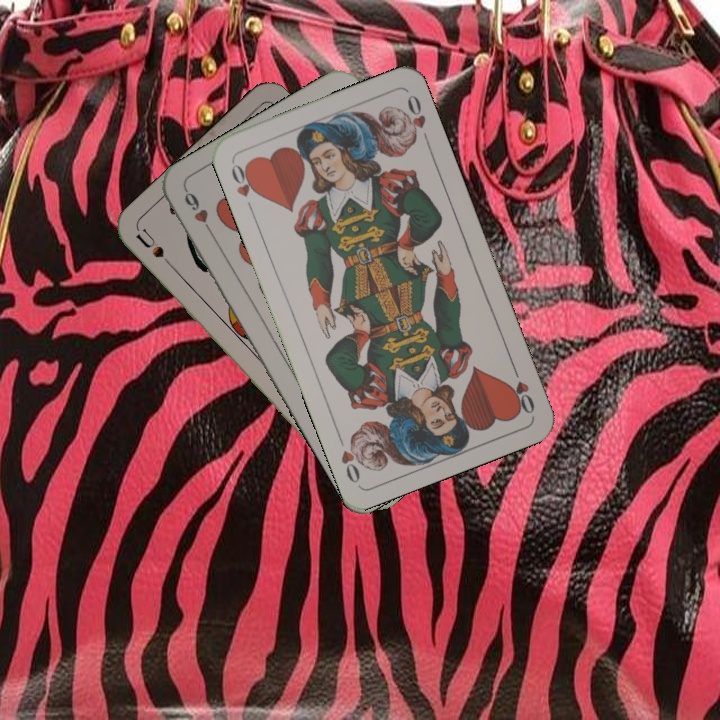H9: (180, 185, 217, 239)
HO: (227, 158, 261, 215), (505, 360, 538, 417)
SU: (132, 225, 180, 276)
